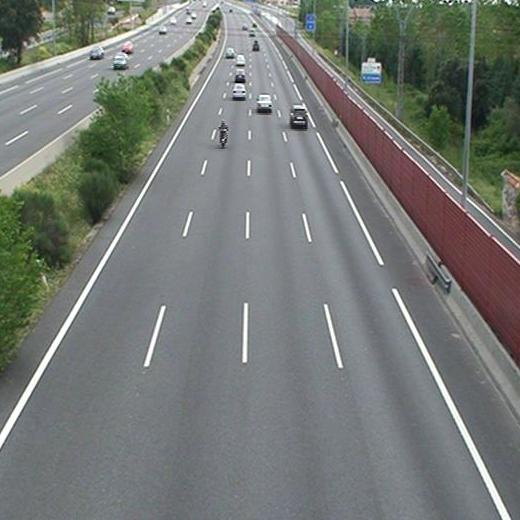car: (290, 106, 308, 124), (257, 95, 271, 110), (232, 84, 246, 97), (234, 69, 245, 80), (235, 54, 245, 65), (225, 48, 235, 57)
motorcycle: (216, 117, 229, 148)
